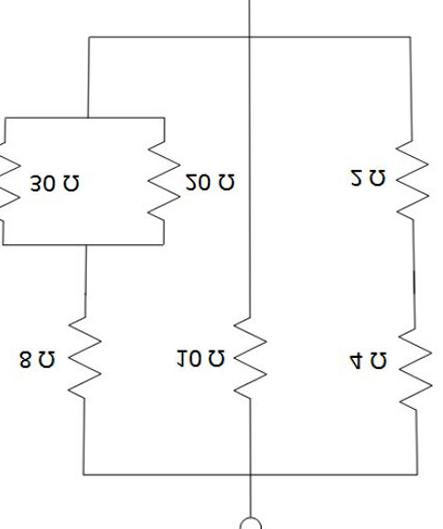resistor: (228, 300, 291, 410), (57, 296, 117, 405), (387, 313, 441, 420), (382, 127, 432, 240), (133, 126, 179, 227), (0, 140, 24, 221)
